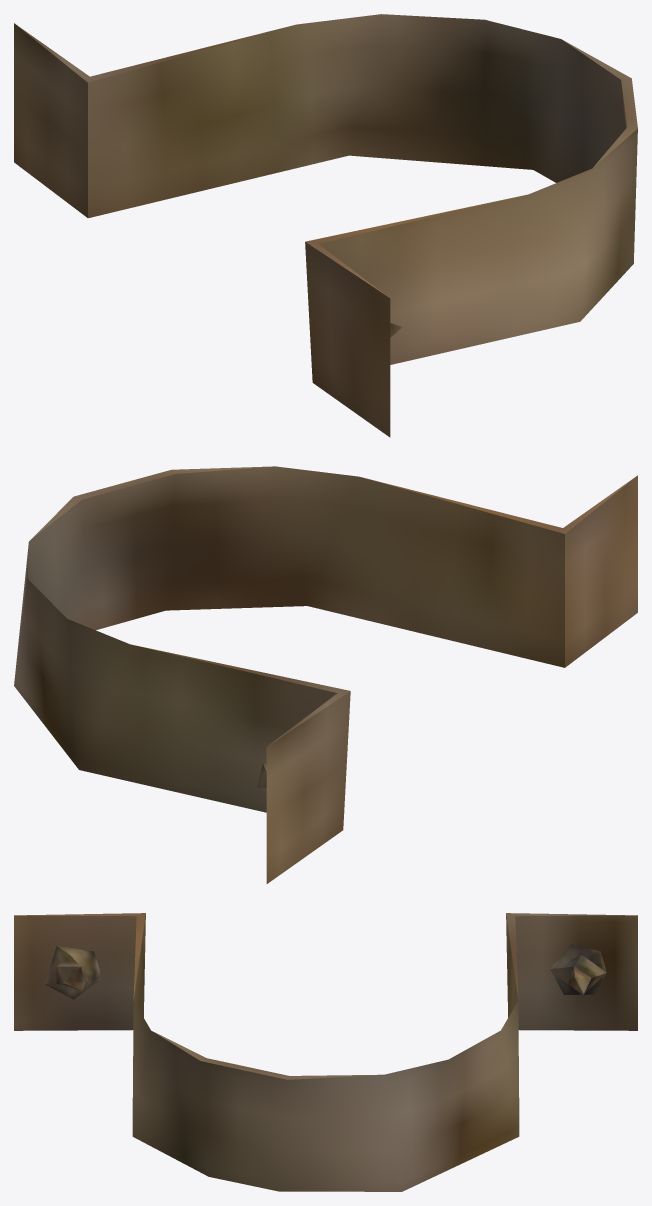
The model's file is pipe-bracket.lod1.glb.
3 views of the same model, one above another, from view 1: azimuth 30°, elevation 25°; view 2: azimuth 150°, elevation 25°; view 3: azimuth 270°, elevation 25° (orthographic). The views are drawn at different scales.
Visible parts, largest first — view 1: pipe-bracket; view 2: pipe-bracket; view 3: pipe-bracket.
Part boxes in pixels (bbox=[...]): pipe-bracket: bbox=[14, 14, 637, 437]; pipe-bracket: bbox=[14, 466, 637, 883]; pipe-bracket: bbox=[14, 913, 637, 1191].
Size of the model in its own units: 0.2747 by 0.0887 by 0.4344.
1 material, 1 textured.
